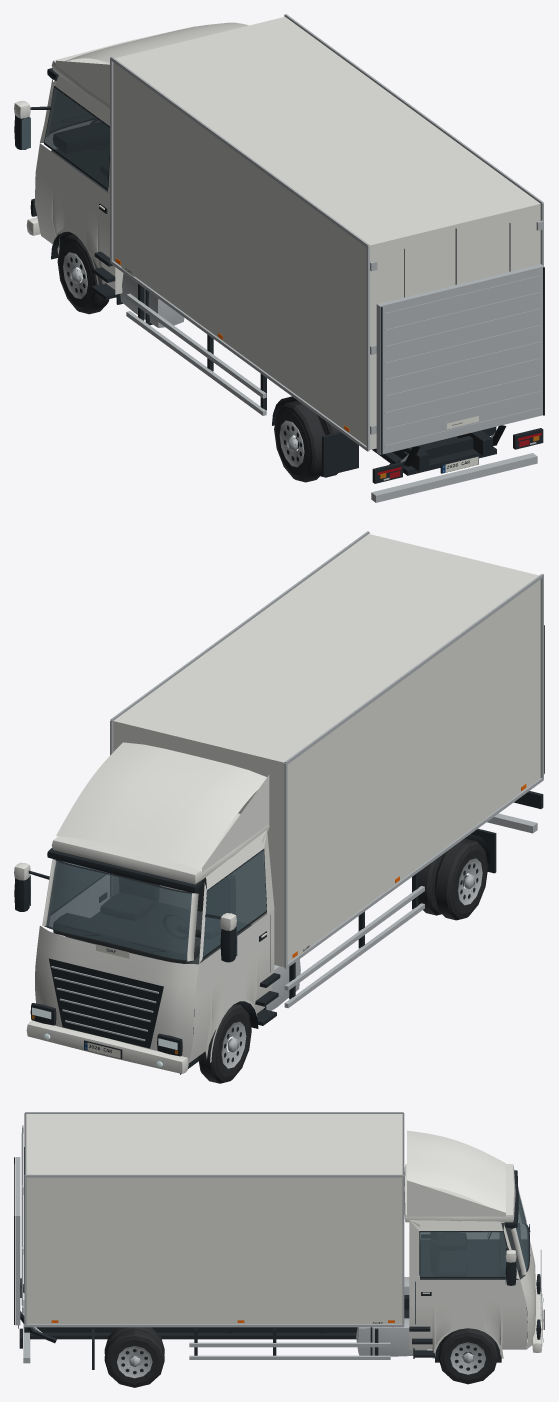
File: Entrega_03_DAF_CF310_LOD1.glb
The picture shows the model from 3 angles, top to bottom: view 1: azimuth 30°, elevation 25°; view 2: azimuth 150°, elevation 25°; view 3: azimuth 270°, elevation 25°; orthographic projection. The views are drawn at different scales.
Visible parts, largest first — view 1: Cargo, Liftgate, Body, Chassis, Glass, Wheel_RL, Wheel_FL, Interior; view 2: Cargo, Body, Glass, Interior, Chassis, Wheel_RL, Wheel_FL; view 3: Cargo, Body, Chassis, Glass, Interior, Wheel_RR, Wheel_FR, Liftgate.
Part boxes in pixels (left/top/right/bottom): Cargo: left=110, top=14, right=543, bottom=451; Liftgate: left=376, top=264, right=544, bottom=455; Body: left=14, top=22, right=543, bottom=483; Chassis: left=51, top=231, right=537, bottom=502; Glass: left=22, top=81, right=109, bottom=188; Wheel_RL: left=274, top=400, right=339, bottom=482; Wheel_FL: left=57, top=234, right=109, bottom=314; Interior: left=51, top=119, right=109, bottom=192; Cargo: left=110, top=531, right=543, bottom=968; Body: left=14, top=742, right=543, bottom=1073; Glass: left=29, top=850, right=266, bottom=960; Interior: left=53, top=875, right=251, bottom=964; Chassis: left=180, top=813, right=537, bottom=1074; Wheel_RL: left=418, top=838, right=488, bottom=920; Wheel_FL: left=198, top=1003, right=251, bottom=1083; Cargo: left=21, top=1112, right=404, bottom=1327; Body: left=18, top=1130, right=544, bottom=1358; Chassis: left=20, top=1277, right=527, bottom=1369; Glass: left=420, top=1192, right=528, bottom=1283; Interior: left=420, top=1222, right=526, bottom=1279; Wheel_RR: left=104, top=1327, right=164, bottom=1387; Wheel_FR: left=438, top=1328, right=498, bottom=1384; Liftgate: left=14, top=1157, right=20, bottom=1325.
Size of the model in its own units: 3.15 by 3.99 by 8.99.
16 materials, 2 textured.
